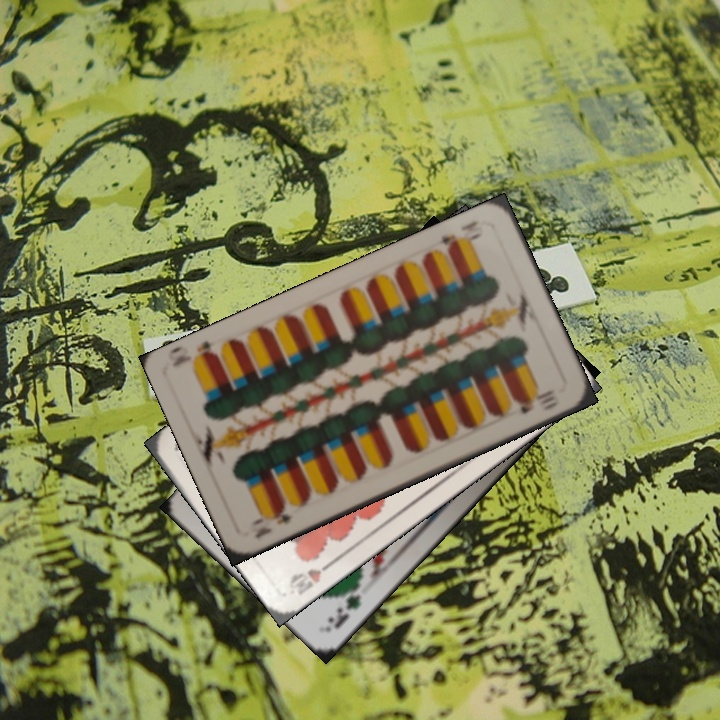E10: (434, 216, 486, 255), (248, 503, 296, 541)
GK: (323, 579, 364, 632)
H10: (285, 556, 337, 599)
